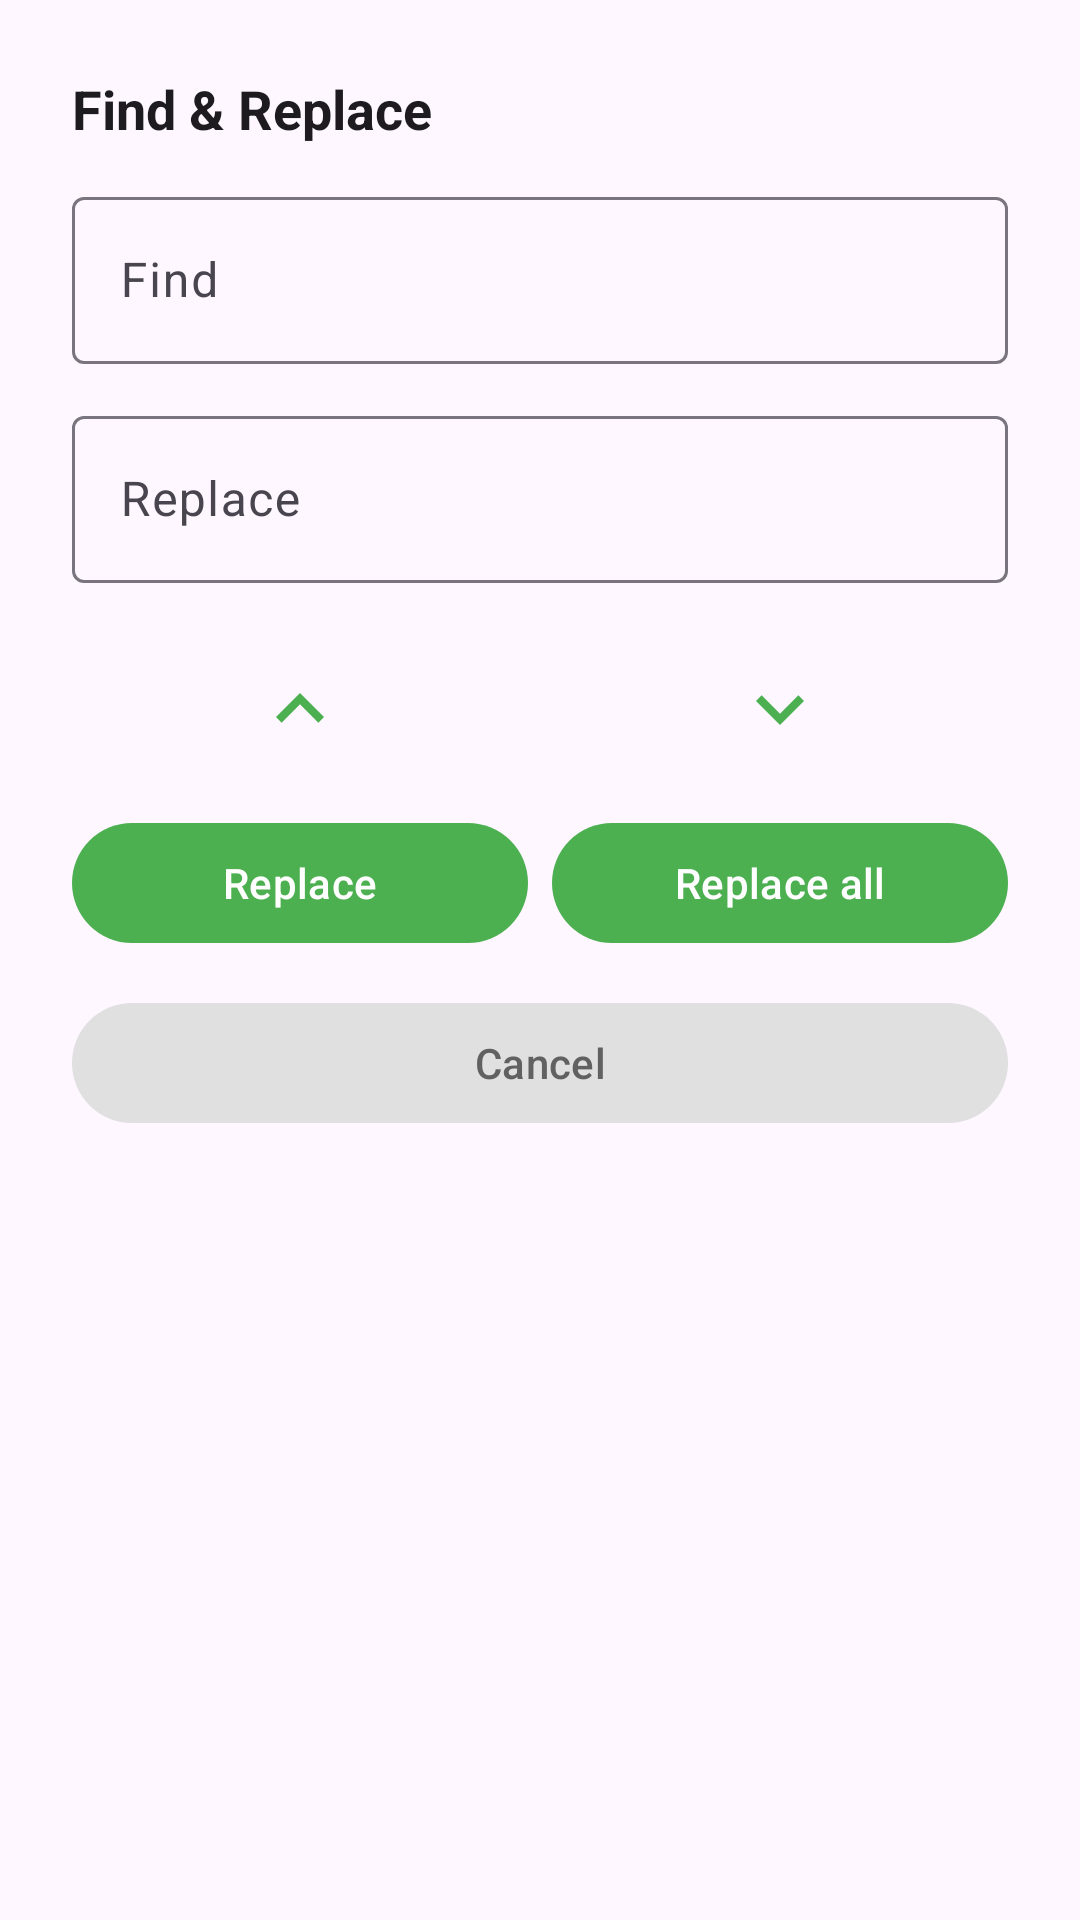

Point at icon controls on the screen. Image size 1080 x 1920, points as (x,y).
Next: (780,710)
Previous: (300,708)
